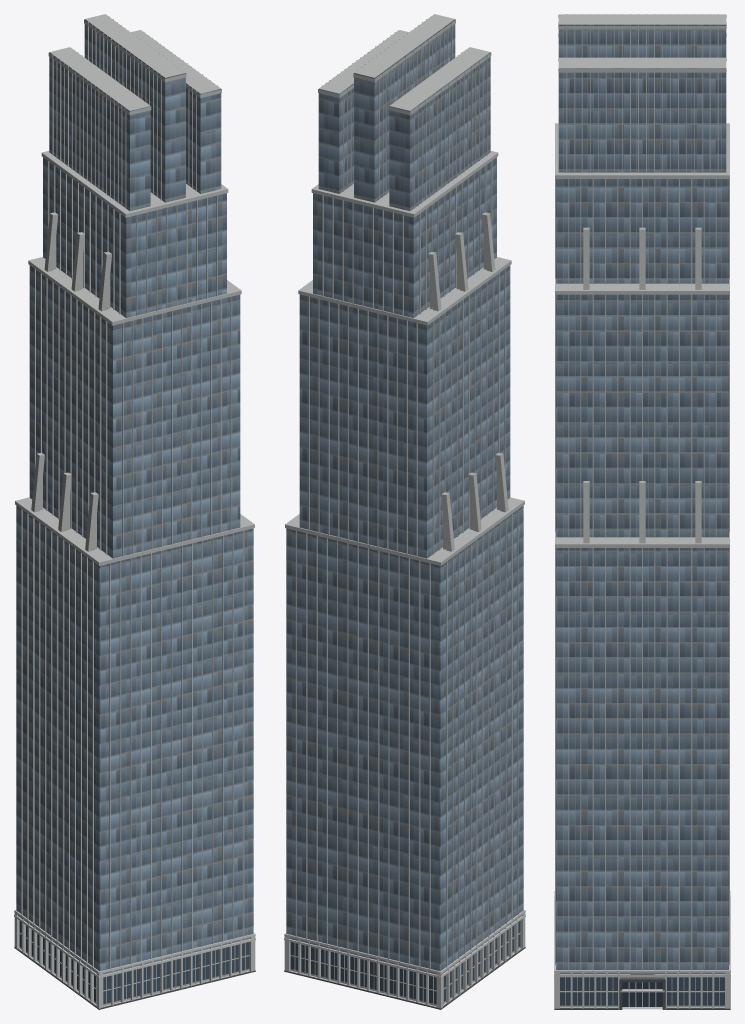
Rendered from park_425.glb.
3 renders of one model, left to right at view 1: azimuth 30°, elevation 25°; view 2: azimuth 150°, elevation 25°; view 3: azimuth 270°, elevation 25°, orthographic. The views are drawn at different scales.
Parts seen in each view (by area): view 1: park_425; view 2: park_425; view 3: park_425.
Boxes of the visible parts, x1,y1,x2,y2 form: park_425: (14,14,255,1009); park_425: (284,14,525,1009); park_425: (554,14,730,1009).
Bounding box in the file's own units: 47.53 × 262 × 44.14.
2 materials, 2 textured.
